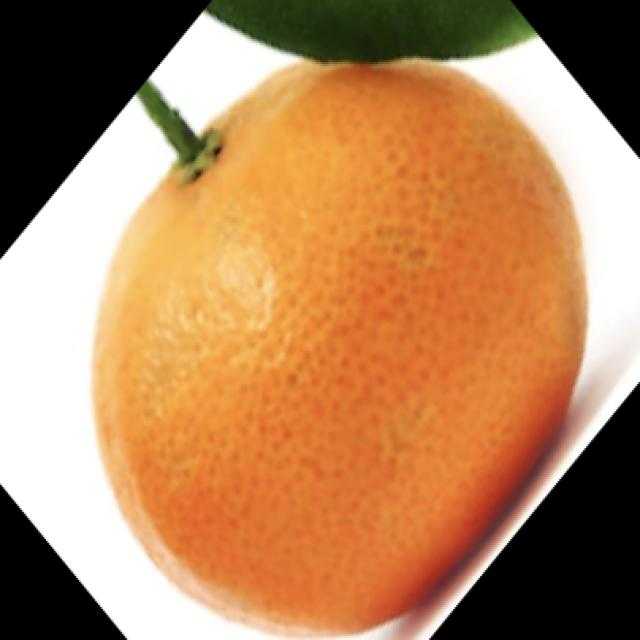fresh: (81, 17, 597, 640)
